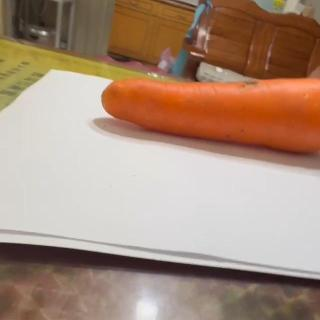carrot: (97, 76, 320, 156)
